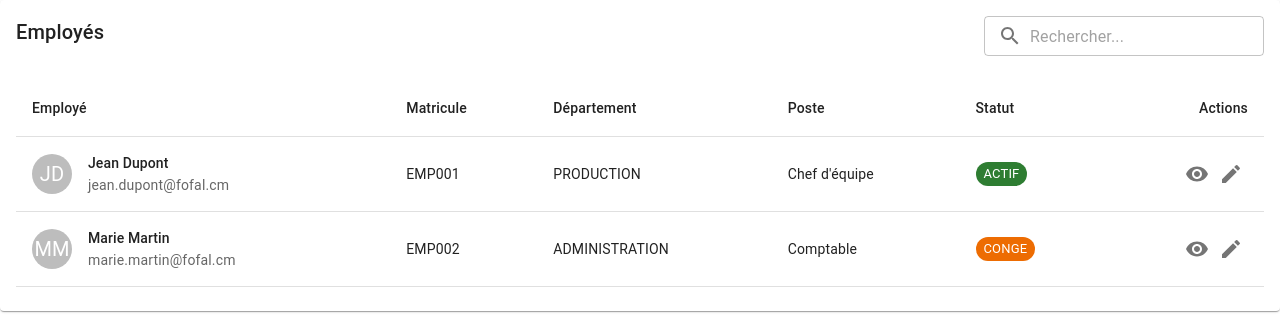
Scenario: EmployeesList › permet la recherche d'employés
In the field with placeholder "Rechercher...": [1147, 36] box 1030,16 -> 1264,56, type "Jean"
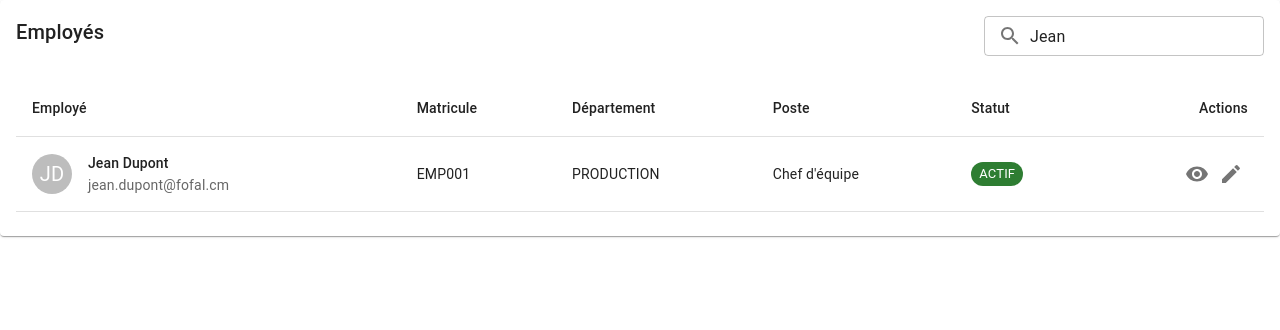
Check: the heading "Jean Dupont" is shown, box 88,155 -> 168,171
Check: the heading "Marie Martin" is gone
